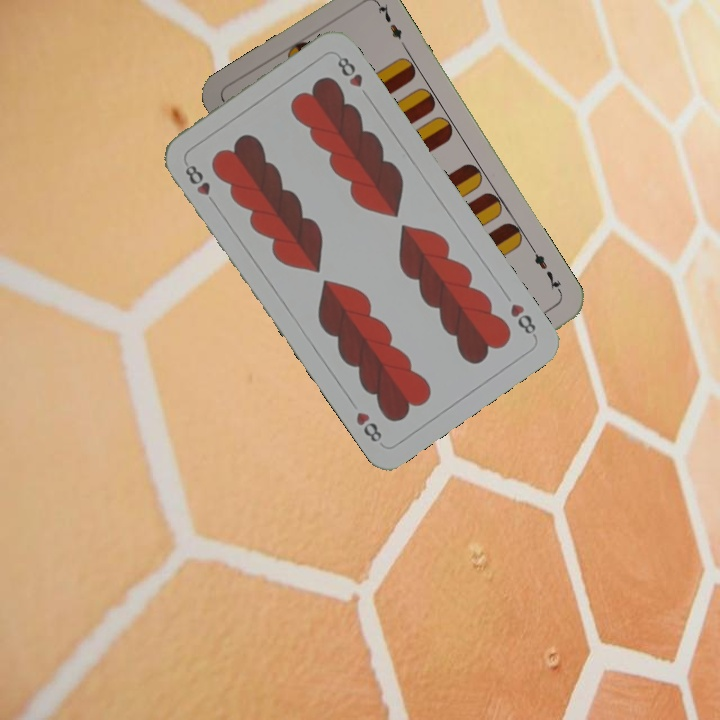E7: (528, 244, 565, 297)
H8: (181, 158, 220, 210), (506, 299, 540, 340)
